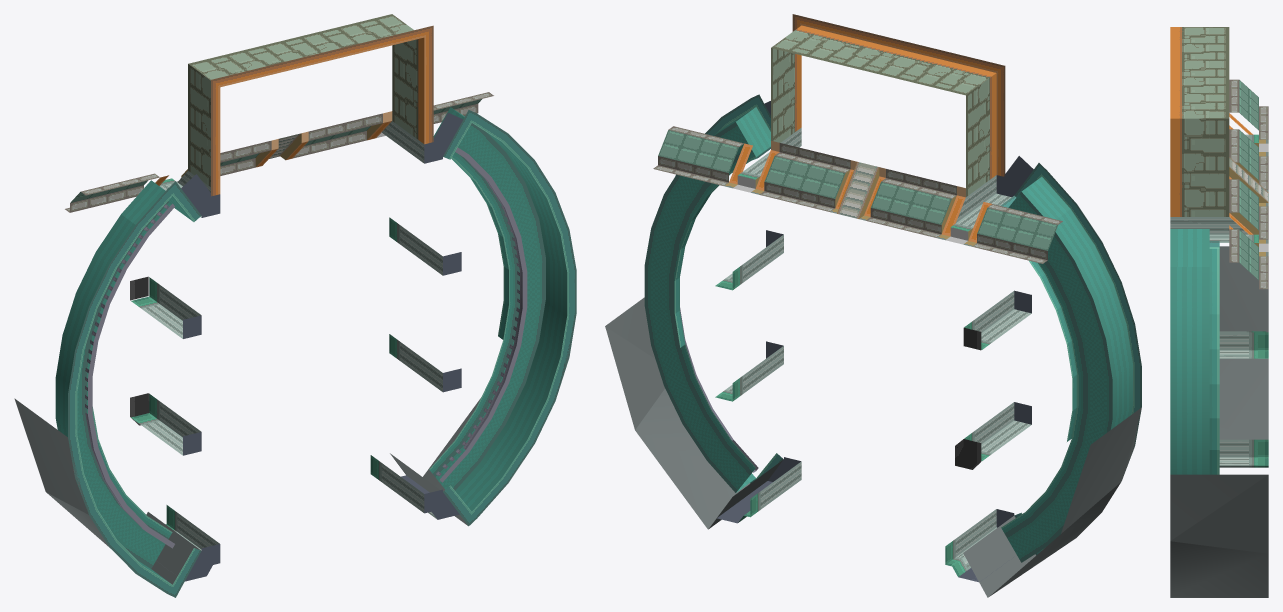
Rendered from ROCKGYM6.obj.
3 renders of one model, left to right at view 1: azimuth 30°, elevation 25°; view 2: azimuth 150°, elevation 25°; view 3: azimuth 270°, elevation 25°, orthographic. The views are drawn at different scales.
Visible parts, largest first — view 1: ROCKGYM; view 2: ROCKGYM; view 3: ROCKGYM.
Boxes of the visible parts, box(x1,y1,x2,y2) form: ROCKGYM: box(14, 14, 576, 597); ROCKGYM: box(605, 14, 1141, 597); ROCKGYM: box(1170, 27, 1268, 597).
Size of the model in its own units: 438 by 420 by 80.
